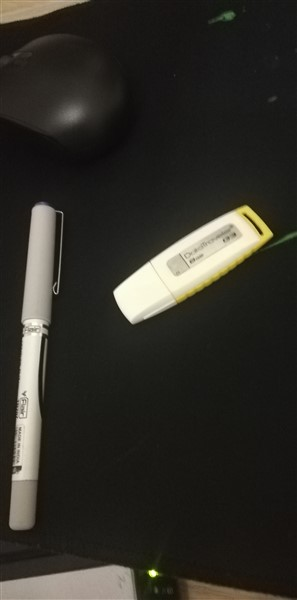flash disk: (105, 191, 275, 332)
mouse: (1, 24, 137, 163)
pilot kalem: (5, 197, 69, 533)
